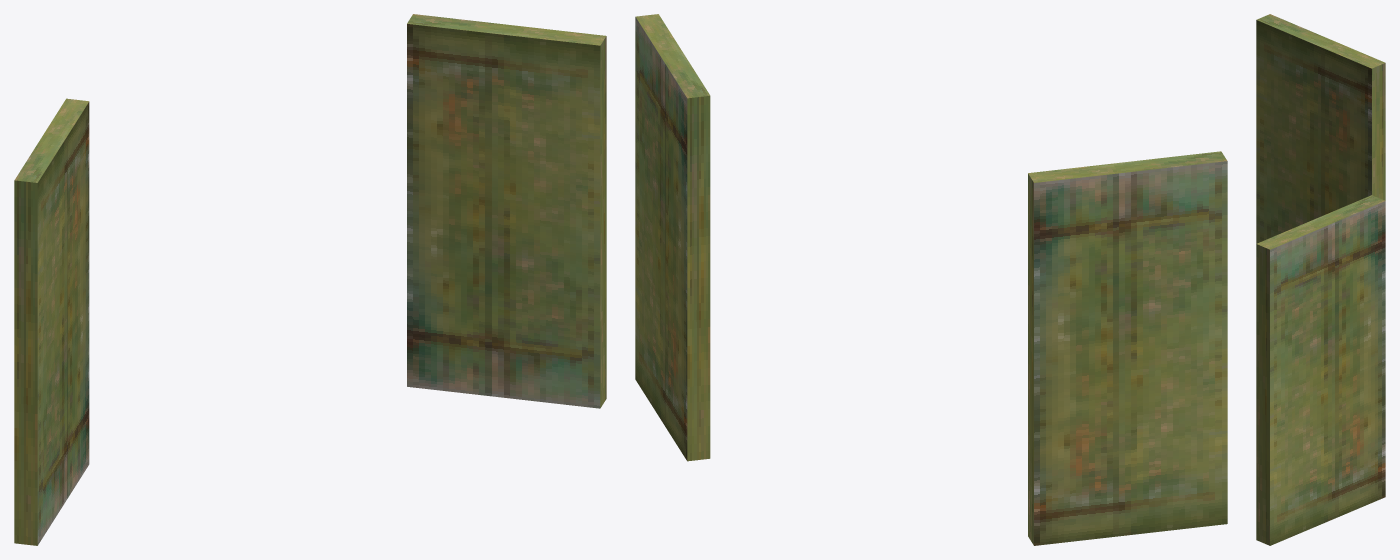
The model's file is shutters_small_single_open_01.glb.
3 views of the same model, side by side, from view 1: azimuth 30°, elevation 25°; view 2: azimuth 150°, elevation 25°; view 3: azimuth 270°, elevation 25° (orthographic). The views are drawn at different scales.
Parts seen in each view (by area): view 1: shutters_small_single_open_012; view 2: shutters_small_single_open_012; view 3: shutters_small_single_open_012.
Part boxes in pixels (left/top/right/bottom): shutters_small_single_open_012: left=14, top=14, right=606, bottom=545; shutters_small_single_open_012: left=635, top=14, right=1227, bottom=545; shutters_small_single_open_012: left=1256, top=14, right=1385, bottom=545.
Size of the model in its own units: 1.71 by 1 by 0.396.
Materials: 1 (1 with a texture image).
